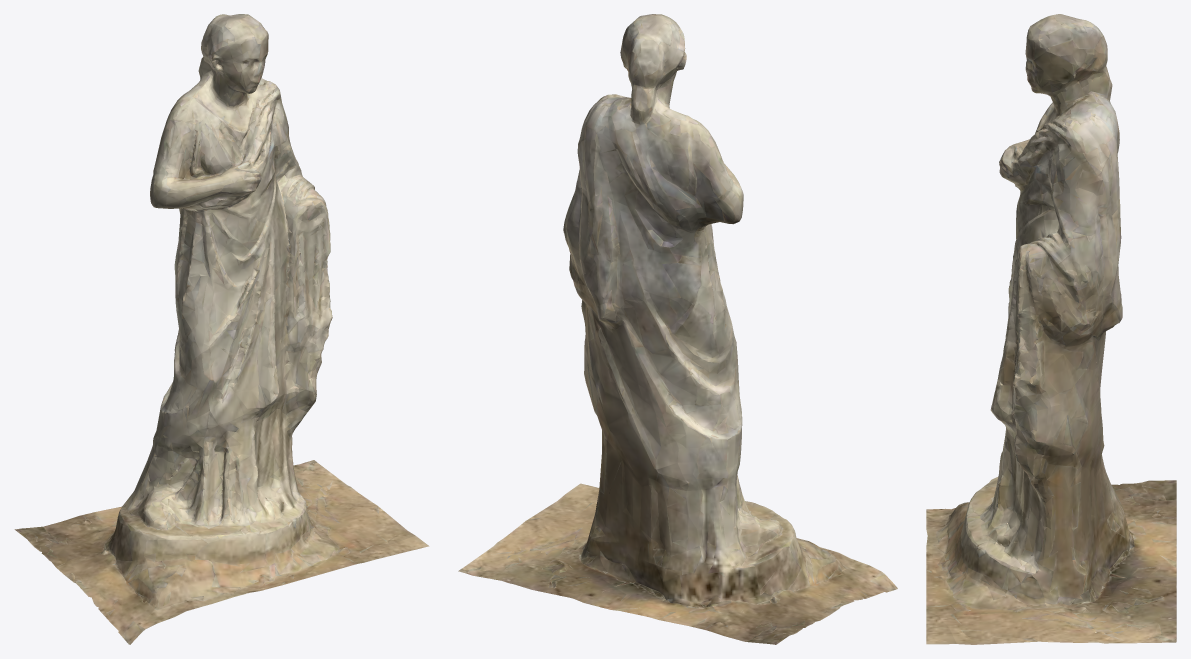
File: draped-statue.glb
3 views of the same model, side by side, from view 1: azimuth 30°, elevation 25°; view 2: azimuth 150°, elevation 25°; view 3: azimuth 270°, elevation 25° (orthographic). The views are drawn at different scales.
Visible parts, largest first — view 1: Object_3; view 2: Object_3; view 3: Object_3.
Boxes of the visible parts, x1,y1,x2,y2 form: Object_3: [14, 14, 429, 644]; Object_3: [458, 14, 897, 644]; Object_3: [926, 14, 1176, 644].
Bounding box in the file's own units: 0.9184 × 1.59 × 0.6127.
Materials: 1 (1 with a texture image).
